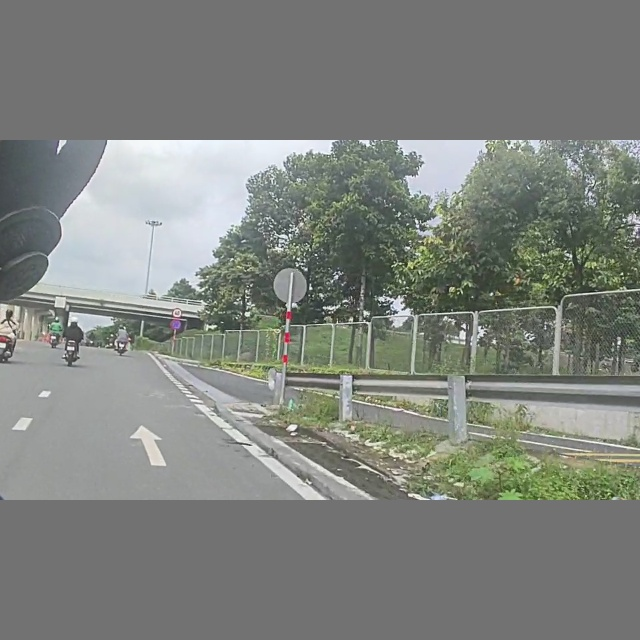P.127*40: (171, 307, 182, 318)
P.130: (170, 319, 182, 331)
